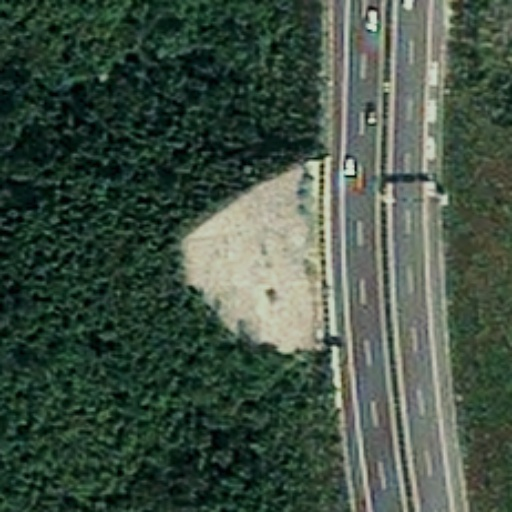landslide: (179, 162, 326, 358)
